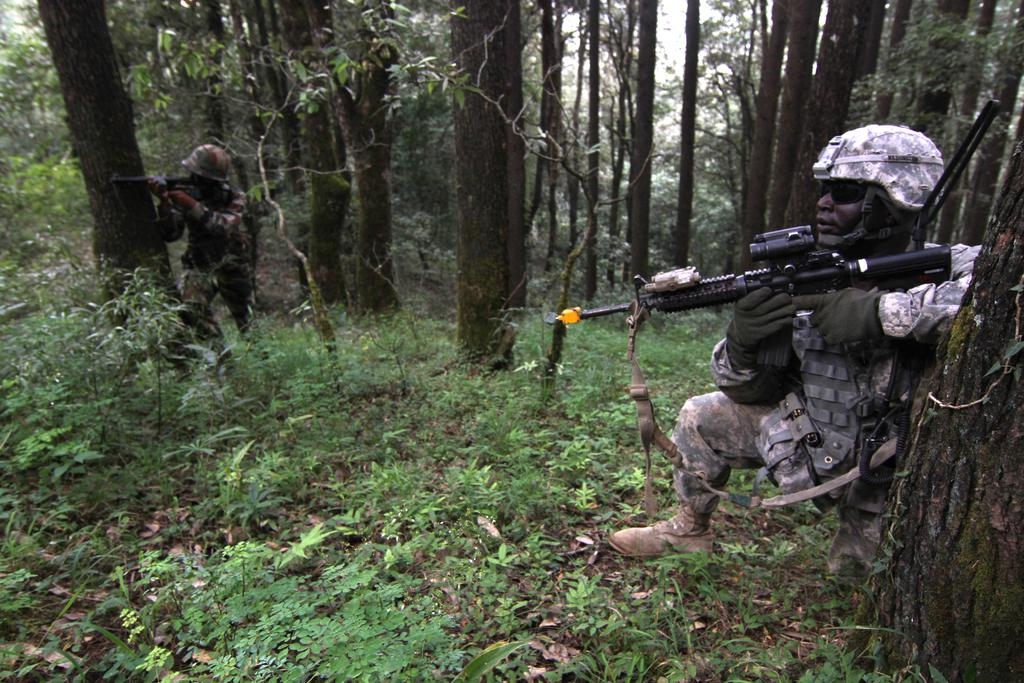Rifle: (540, 224, 955, 372), (109, 174, 219, 213)
